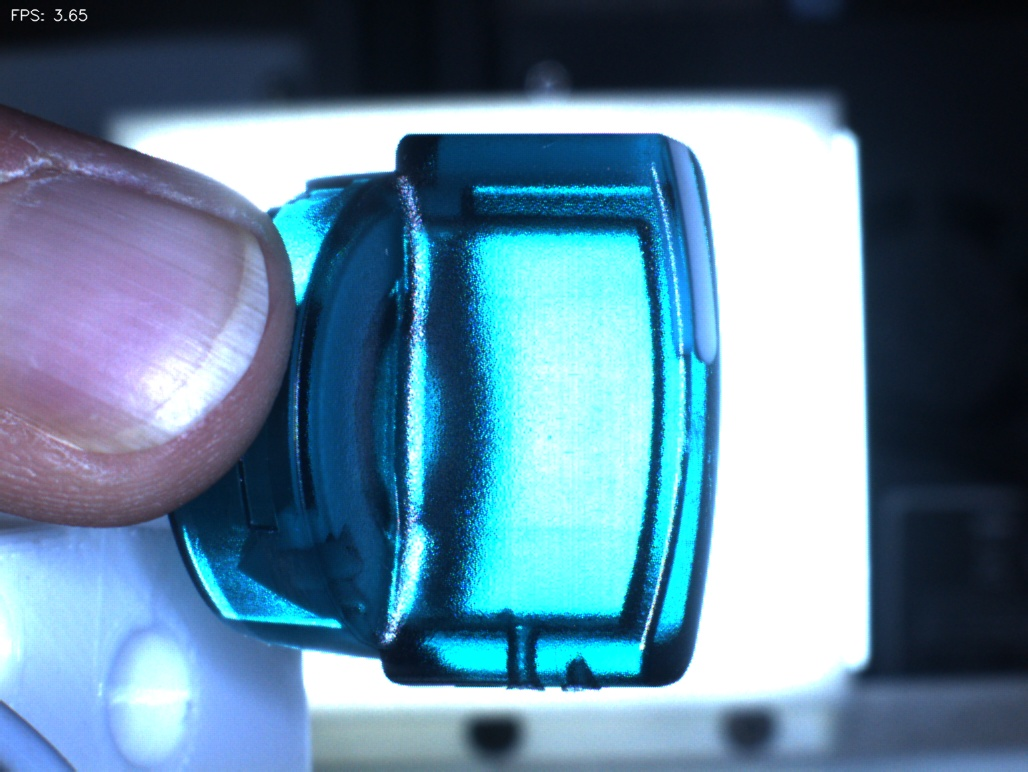Bulle: (540, 611, 629, 740)
